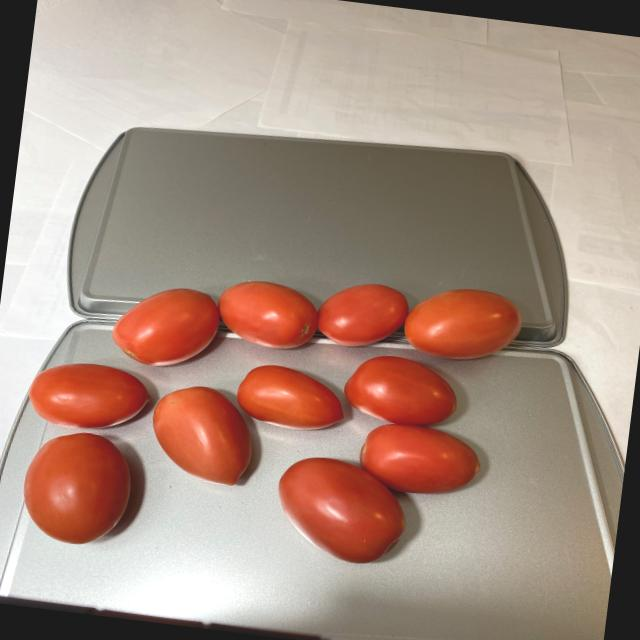tomato: (11, 234, 534, 588)
